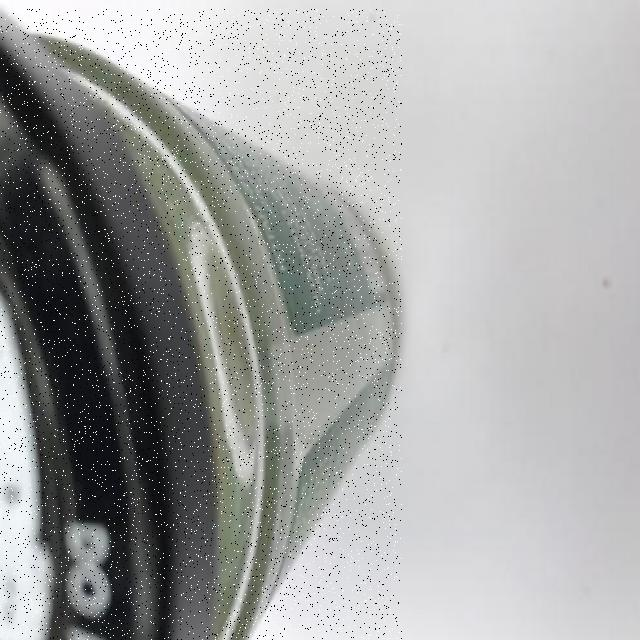glass: (0, 9, 402, 640)
